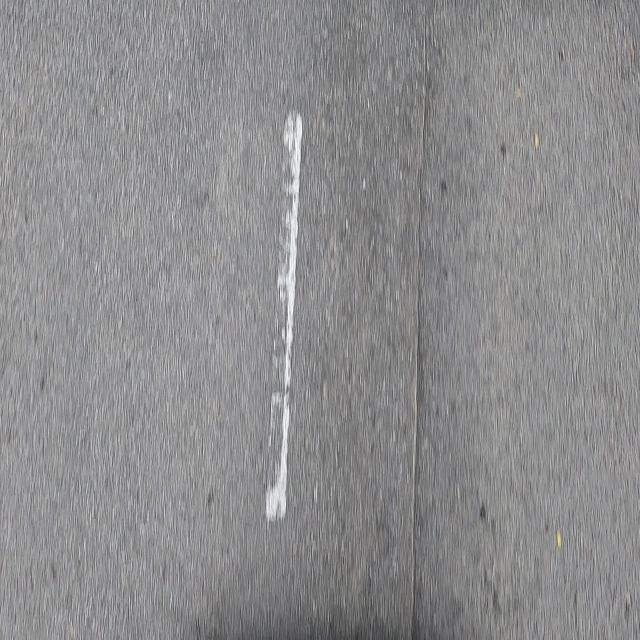Retak-Memanjang: (406, 48, 429, 640)
